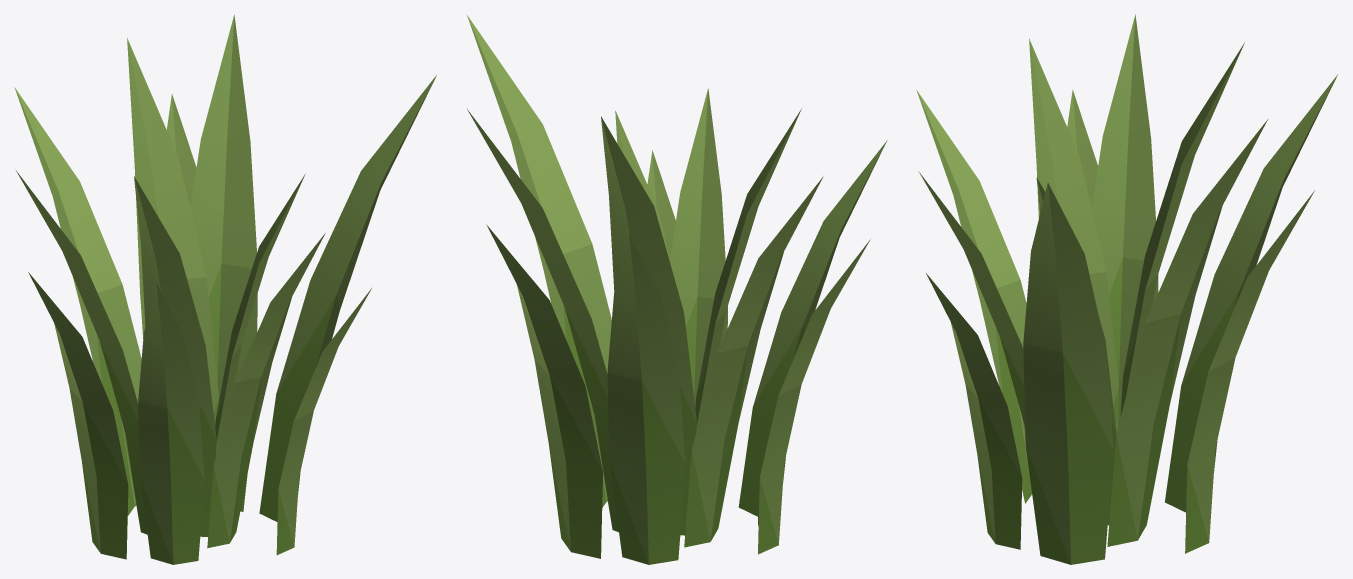
The model's file is itch_kaykit_forest_grass_2_c_singlesided_color1.glb.
3 views of the same model, side by side, from view 1: azimuth 30°, elevation 25°; view 2: azimuth 150°, elevation 25°; view 3: azimuth 270°, elevation 25° (orthographic). The views are drawn at different scales.
Visible parts, largest first — view 1: Grass_2_C_Singlesided_Color1; view 2: Grass_2_C_Singlesided_Color1; view 3: Grass_2_C_Singlesided_Color1.
Boxes of the visible parts, x1,y1,x2,y2 form: Grass_2_C_Singlesided_Color1: [14, 15, 436, 564]; Grass_2_C_Singlesided_Color1: [467, 15, 887, 564]; Grass_2_C_Singlesided_Color1: [916, 14, 1337, 564].
Size of the model in its own units: 0.96 by 1.03 by 0.813.
